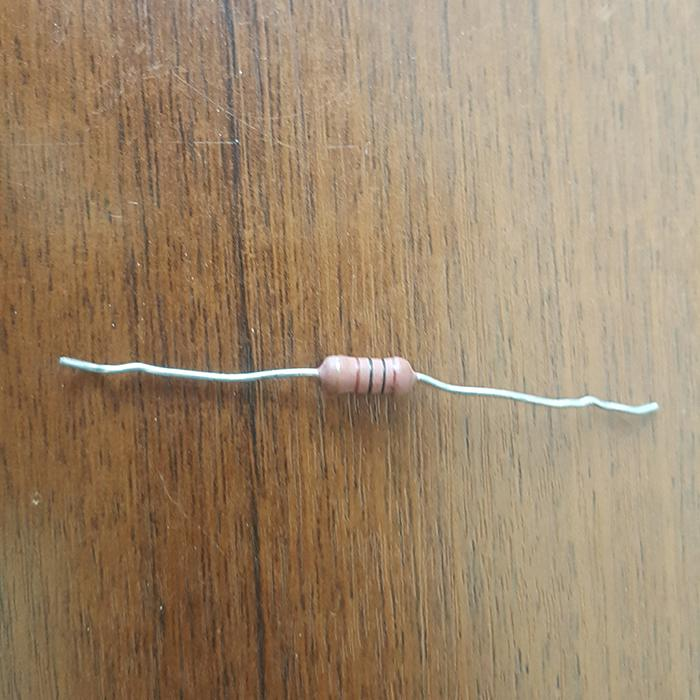resistor: (317, 353, 417, 396)
